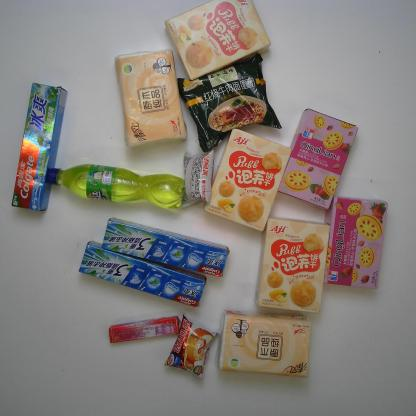Candy: (108, 314, 183, 344)
Dessert: (202, 127, 294, 233), (163, 0, 274, 83), (276, 107, 358, 211), (254, 215, 332, 314), (323, 194, 388, 290), (163, 314, 221, 382), (180, 146, 215, 210)
Drink: (46, 163, 185, 210)
Instant Noodles: (176, 52, 284, 154)
Personal Hygiene: (77, 240, 208, 309), (8, 82, 70, 214), (100, 216, 231, 278)
Tissue: (113, 46, 188, 151), (215, 309, 313, 379)
